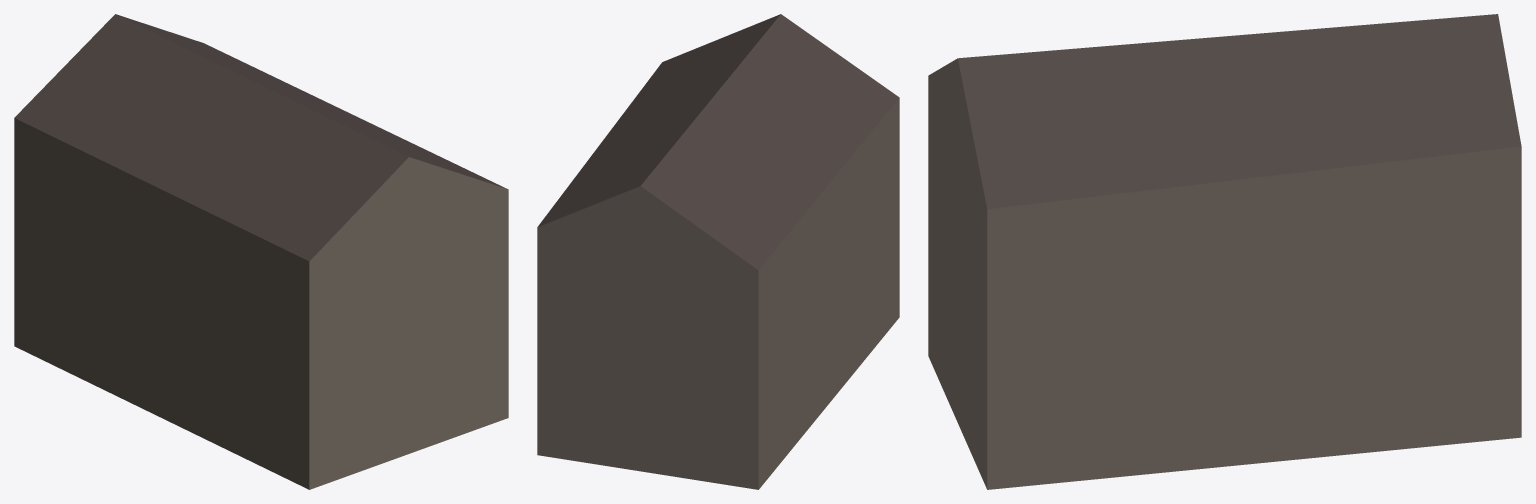
3 renders of one model, left to right at view 1: azimuth 30°, elevation 25°; view 2: azimuth 150°, elevation 25°; view 3: azimuth 270°, elevation 25°, orthographic. The views are drawn at different scales.
Visible parts, largest first — view 1: HP-w783664782; view 2: HP-w783664782; view 3: HP-w783664782.
Part boxes in pixels (box(x1,y1,x2,y2)): HP-w783664782: box(14, 14, 508, 489); HP-w783664782: box(537, 14, 899, 489); HP-w783664782: box(928, 14, 1521, 489).
Size of the model in its own units: 8.18 by 7.8 by 11.5.
